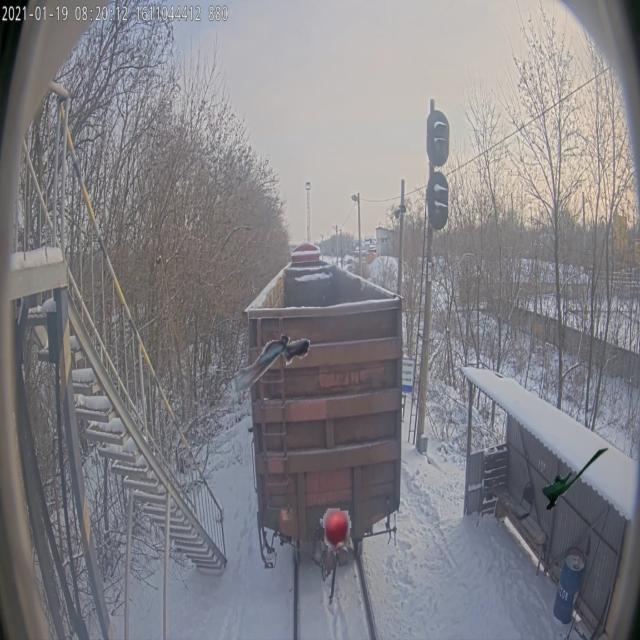balloon: (316, 503, 355, 567)
floating object: (234, 329, 311, 394), (542, 446, 610, 510)
